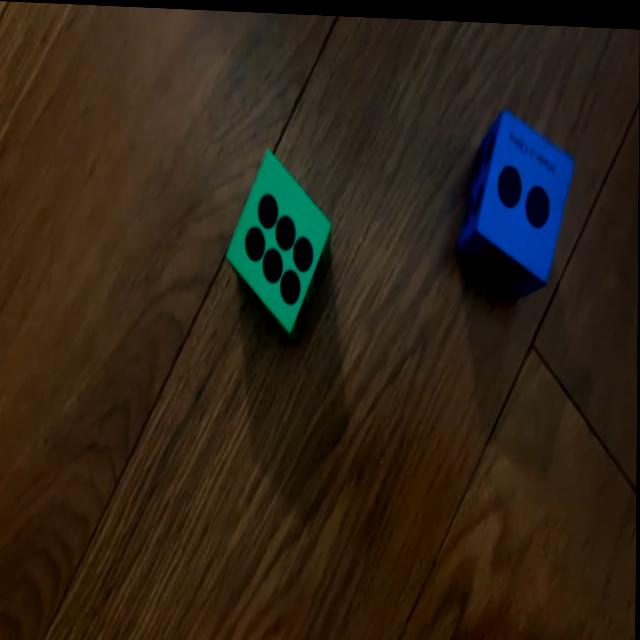blue_block: (457, 103, 575, 295)
